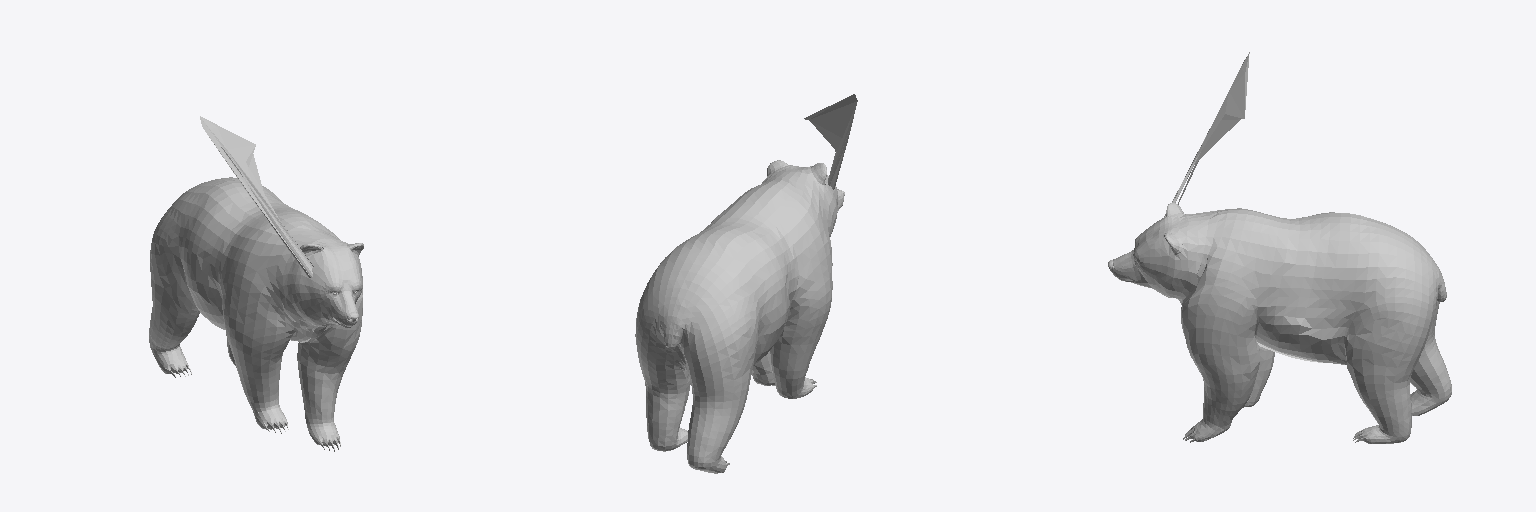
File: Bear0002.obj
The picture shows the model from 3 angles: view 1: azimuth 30°, elevation 25°; view 2: azimuth 150°, elevation 25°; view 3: azimuth 270°, elevation 25°; orthographic projection.
Visible parts, largest first — view 1: Object_237; view 2: Object_237; view 3: Object_237.
Boxes of the visible parts, <box> form: Object_237: <box>149,116,363,451</box>; Object_237: <box>635,94,857,473</box>; Object_237: <box>1108,52,1451,443</box>.
Bounding box in the file's own units: 2.36 × 5.3 × 4.91.